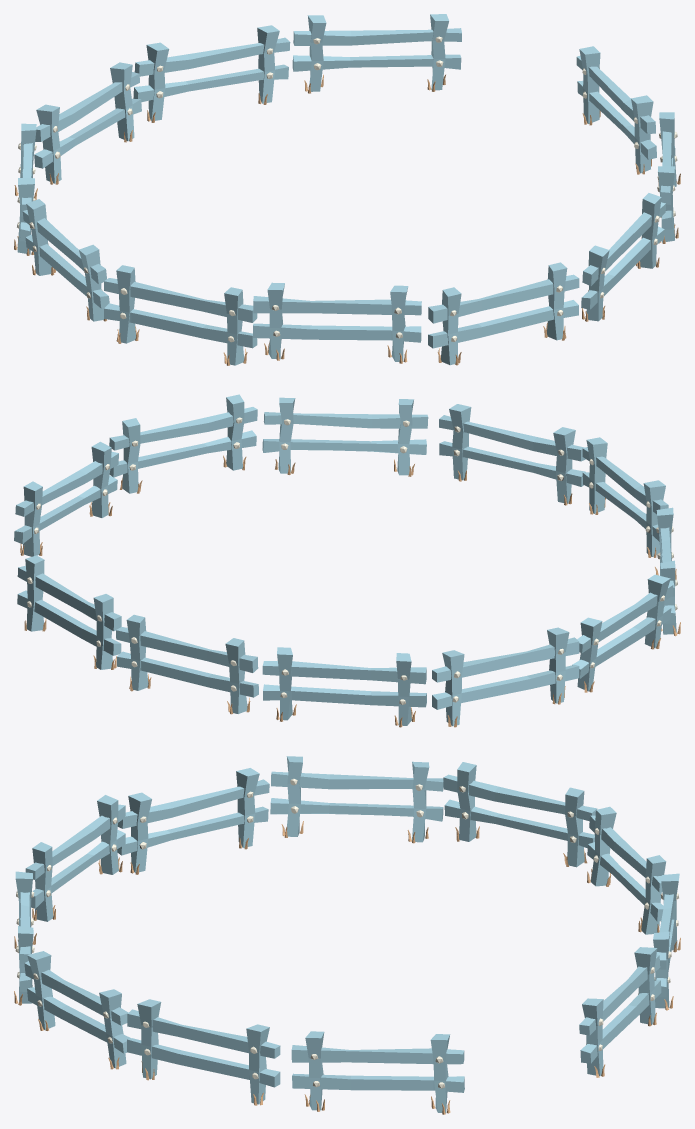
The model's file is fence-blue.gltf.
3 views of the same model, one above another, from view 1: azimuth 30°, elevation 25°; view 2: azimuth 150°, elevation 25°; view 3: azimuth 270°, elevation 25° (orthographic). The views are drawn at different scales.
Visible parts, largest first — view 1: Cube.050, Cube.041, Cube.044, Cube.048, Cube.047, Cube.046, Cube.040, Cube.043, Cube.049, Cube.042, Cube.045; view 2: Cube.046, Cube.045, Cube.047, Cube.040, Cube.042, Cube.041, Cube.048, Cube.049, Cube.043, Cube.050, Cube.044; view 3: Cube.049, Cube.042, Cube.043, Cube.045, Cube.044, Cube.040, Cube.050, Cube.048, Cube.046, Cube.047, Cube.041.
Boxes of the visible parts, bbox=[...] form: Cube.050: bbox=[253, 282, 421, 363]; Cube.041: bbox=[428, 262, 579, 365]; Cube.044: bbox=[104, 265, 257, 365]; Cube.048: bbox=[292, 14, 461, 93]; Cube.047: bbox=[133, 25, 290, 122]; Cube.046: bbox=[34, 62, 141, 184]; Cube.040: bbox=[581, 193, 665, 321]; Cube.043: bbox=[22, 199, 109, 321]; Cube.049: bbox=[576, 46, 656, 174]; Cube.042: bbox=[657, 112, 680, 243]; Cube.045: bbox=[14, 123, 37, 255]; Cube.046: bbox=[262, 647, 426, 727]; Cube.045: bbox=[432, 627, 579, 727]; Cube.047: bbox=[116, 614, 258, 714]; Cube.040: bbox=[262, 397, 428, 476]; Cube.042: bbox=[109, 394, 257, 493]; Cube.041: bbox=[439, 404, 585, 505]; Cube.048: bbox=[17, 555, 121, 669]; Cube.049: bbox=[14, 441, 118, 556]; Cube.043: bbox=[572, 574, 673, 692]; Cube.050: bbox=[582, 437, 668, 557]; Cube.044: bbox=[655, 507, 680, 636]; Cube.049: bbox=[291, 1031, 464, 1114]; Cube.042: bbox=[127, 999, 280, 1105]; Cube.043: bbox=[270, 756, 443, 843]; Cube.045: bbox=[443, 762, 597, 867]; Cube.044: bbox=[117, 768, 269, 874]; Cube.040: bbox=[24, 951, 130, 1069]; Cube.050: bbox=[25, 795, 125, 921]; Cube.048: bbox=[579, 947, 661, 1077]; Cube.046: bbox=[587, 806, 666, 934]; Cube.047: bbox=[653, 873, 680, 1010]; Cube.041: bbox=[14, 871, 36, 1005].
Size of the model in its own units: 11.45 by 1.62 by 10.92.
